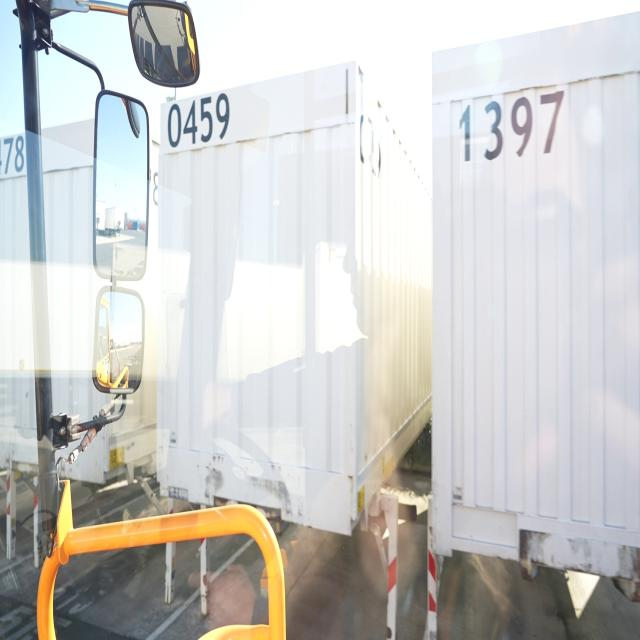Code: (457, 86, 566, 168), (165, 97, 229, 146)
